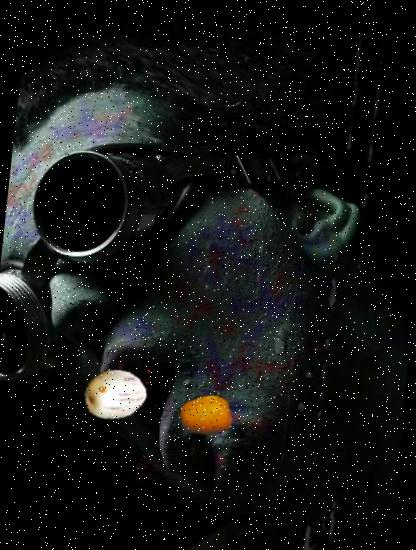Kumquats: (176, 387, 235, 445)
Pepino: (80, 361, 147, 428)
